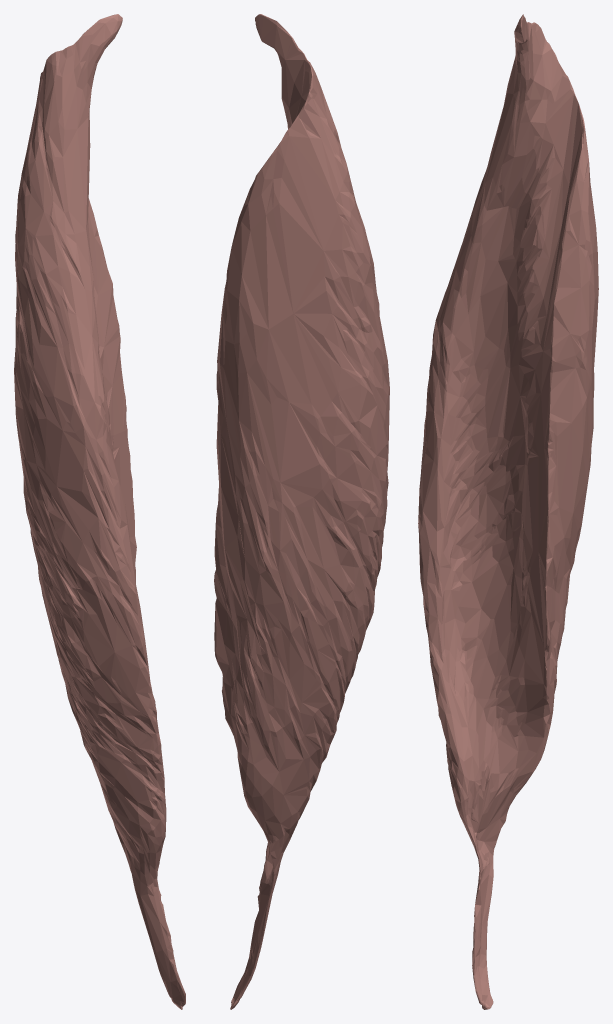
File: FMA38931.glb
3 renders of one model, left to right at view 1: azimuth 30°, elevation 25°; view 2: azimuth 150°, elevation 25°; view 3: azimuth 270°, elevation 25°, orthographic. The views are drawn at different scales.
Visible parts, largest first — view 1: A.FMA38931; view 2: A.FMA38931; view 3: A.FMA38931.
Part boxes in pixels (left/top/right/bottom): A.FMA38931: left=14, top=14, right=185, bottom=1009; A.FMA38931: left=214, top=14, right=389, bottom=1009; A.FMA38931: left=418, top=14, right=598, bottom=1009.
Size of the model in its own units: 0.0756 by 0.4702 by 0.0795.
